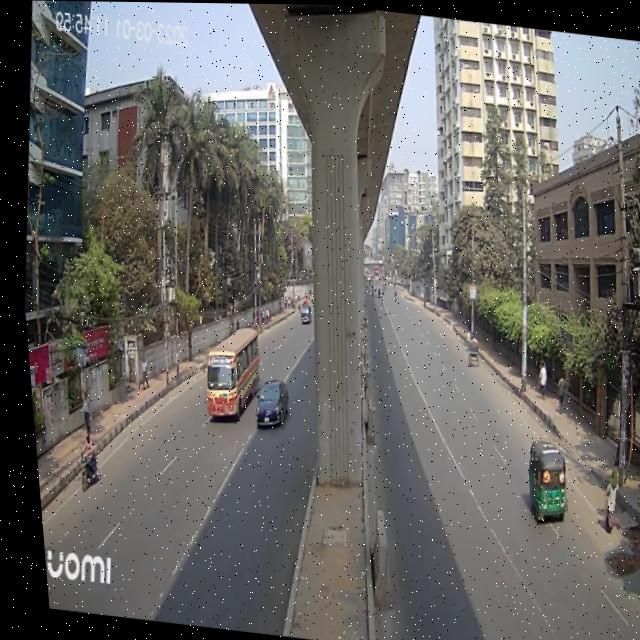cng: (510, 429, 569, 528)
